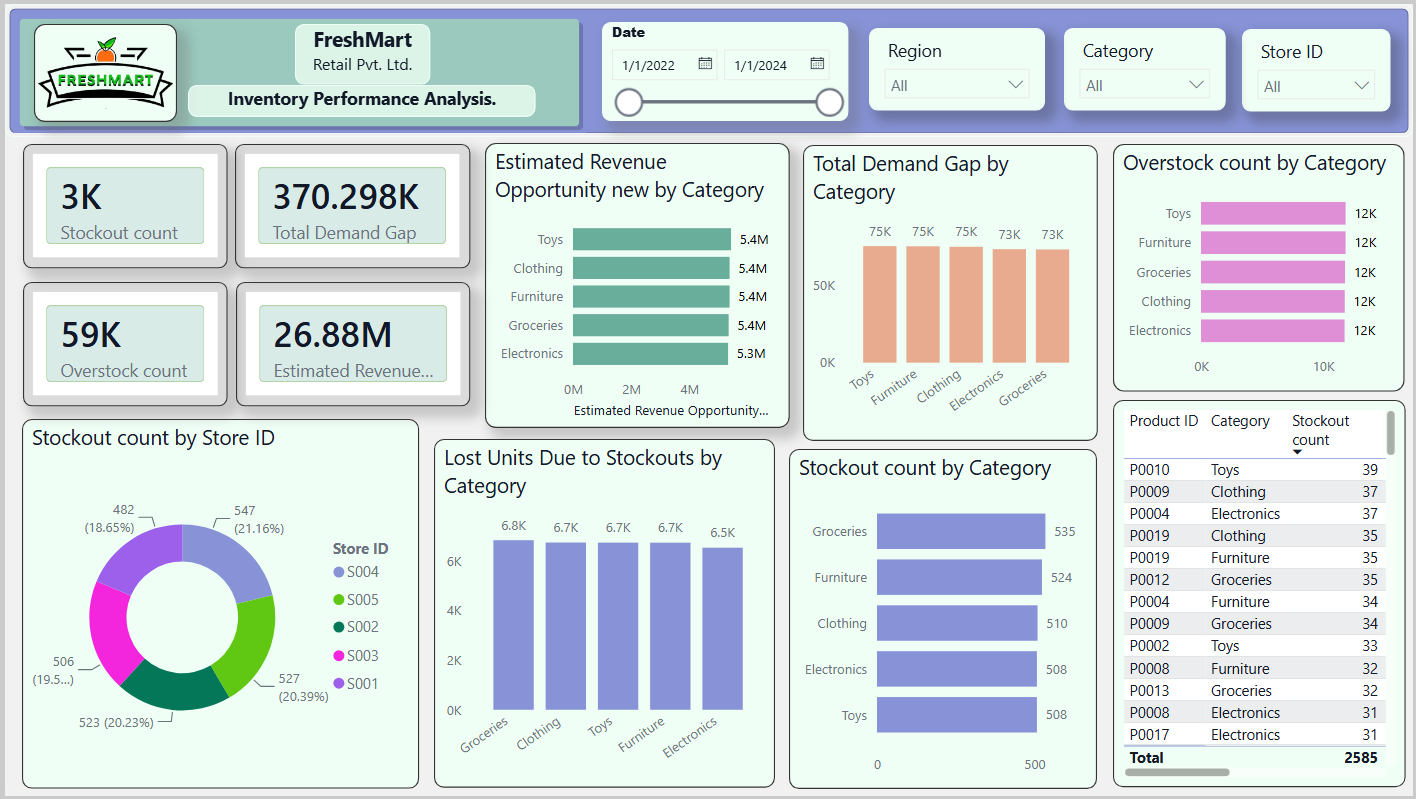

What the dashboard file says about the page in this screenshot:
{"tool":"powerbi","page":{"name":"Inventory Performance Analysis.","canvas":[1280,720],"ordinal":1},"visuals":[{"type":"clusteredBarChart","fields":{"Y":["inventory_records.Stockout count"],"Category":["inventory_records.Category"]},"box":[712.9,404.3,280,308.6],"z":0},{"type":"clusteredBarChart","fields":{"Y":["inventory_records.Estimated Revenue Opportunity new"],"Category":["inventory_records.Category"]},"box":[436.7,126.7,276.7,258.9],"z":1000},{"type":"donutChart","fields":{"Category":["inventory_records.Store ID"],"Y":["inventory_records.Stockout count"]},"box":[15.7,377.1,361.4,335.7],"z":2000},{"type":"barChart","fields":{"Category":["inventory_records.Category"],"Y":["inventory_records.Overstock count"]},"box":[1007.3,127.3,265.5,224.5],"z":3000},{"type":"tableEx","fields":{"Values":["inventory_records.Product ID","inventory_records.Category","inventory_records.Stockout count","inventory_records.Potential Lost Units","inventory_records.Estimated Revenue Opportunity new"]},"box":[1007.5,360.2,265.8,352.2],"z":4000},{"type":"cardVisual","fields":{"Data":["inventory_records.Stockout count"]},"box":[16.4,127.3,186.4,112.7],"z":5000},{"type":"cardVisual","fields":{"Data":["inventory_records.Overstock count"]},"box":[16.4,252.7,186.4,112.7],"z":6000},{"type":"cardVisual","fields":{"Data":["inventory_records.Estimated Revenue Opportunity new"]},"box":[210,252.7,213,112.5],"z":7000},{"type":"cardVisual","fields":{"Data":["inventory_records.Total Demand Gap"]},"box":[208.8,127.5,213.8,112.5],"z":8000},{"type":"clusteredColumnChart","fields":{"Category":["inventory_records.Category"],"Y":["inventory_records.Lost Units Due to Stockouts"]},"box":[390,395.7,310,317.1],"z":9000},{"type":"columnChart","fields":{"Y":["inventory_records.Total Demand Gap"],"Category":["inventory_records.Category"]},"box":[725.6,127.8,267.8,268.9],"z":10000},{"type":"shape","box":[0,0,1280,121.3],"z":11000},{"type":"slicer","fields":{"Values":["inventory_records.Date"]},"box":[543,16,224,90],"z":12000},{"type":"slicer","fields":{"Values":["inventory_records.Store ID"]},"box":[1124.3,22.9,135.5,74.5],"z":13000},{"type":"slicer","fields":{"Values":["inventory_records.Category"]},"box":[963,22,147,75],"z":14000},{"type":"slicer","fields":{"Values":["inventory_records.Region"]},"box":[785.5,21.8,160,75.5],"z":16000},{"type":"shape","box":[6.9,7.3,520.8,110],"z":16500,"group":"g2"},{"type":"group","id":"g1","title":"Group 9","box":[6.9,7.3,520.8,110],"z":17000},{"type":"image","box":[25.7,17.8,130,88.8],"z":18000,"group":"g2"},{"type":"textbox","box":[166,73.3,316.4,29.1],"z":18000},{"type":"textbox","box":[263,18.4,122.7,54.5],"z":19000,"group":"g2"},{"type":"group","id":"g2","title":"Group 8","box":[6.9,7.3,520.8,110],"z":19001,"group":"g1"}]}

Visuals, with their boxes in screenshot pixels (x1, y1, x2, y2), scaled from the page's 1280x720 canvas onto the 1416x799 screenshot:
clusteredBarChart - inventory_records.Stockout count x inventory_records.Category: <region>789, 449, 1098, 791</region>
clusteredBarChart - inventory_records.Estimated Revenue Opportunity new x inventory_records.Category: <region>483, 141, 789, 428</region>
donutChart - inventory_records.Store ID x inventory_records.Stockout count: <region>17, 418, 417, 791</region>
barChart - inventory_records.Category x inventory_records.Overstock count: <region>1114, 141, 1408, 390</region>
tableEx - inventory_records.Product ID x inventory_records.Category: <region>1115, 400, 1409, 791</region>
cardVisual - inventory_records.Stockout count: <region>18, 141, 224, 266</region>
cardVisual - inventory_records.Overstock count: <region>18, 280, 224, 405</region>
cardVisual - inventory_records.Estimated Revenue Opportunity new: <region>232, 280, 468, 405</region>
cardVisual - inventory_records.Total Demand Gap: <region>231, 141, 468, 266</region>
clusteredColumnChart - inventory_records.Category x inventory_records.Lost Units Due to Stockouts: <region>431, 439, 774, 791</region>
columnChart - inventory_records.Total Demand Gap x inventory_records.Category: <region>803, 142, 1099, 440</region>
shape: <region>0, 0, 1415, 135</region>
slicer - inventory_records.Date: <region>601, 18, 848, 118</region>
slicer - inventory_records.Store ID: <region>1244, 25, 1394, 108</region>
slicer - inventory_records.Category: <region>1065, 24, 1228, 108</region>
slicer - inventory_records.Region: <region>869, 24, 1046, 108</region>
shape: <region>8, 8, 584, 130</region>
"Group 9" group: <region>8, 8, 584, 130</region>
image: <region>28, 20, 172, 118</region>
textbox: <region>184, 81, 534, 114</region>
textbox: <region>291, 20, 427, 81</region>
"Group 8" group: <region>8, 8, 584, 130</region>
